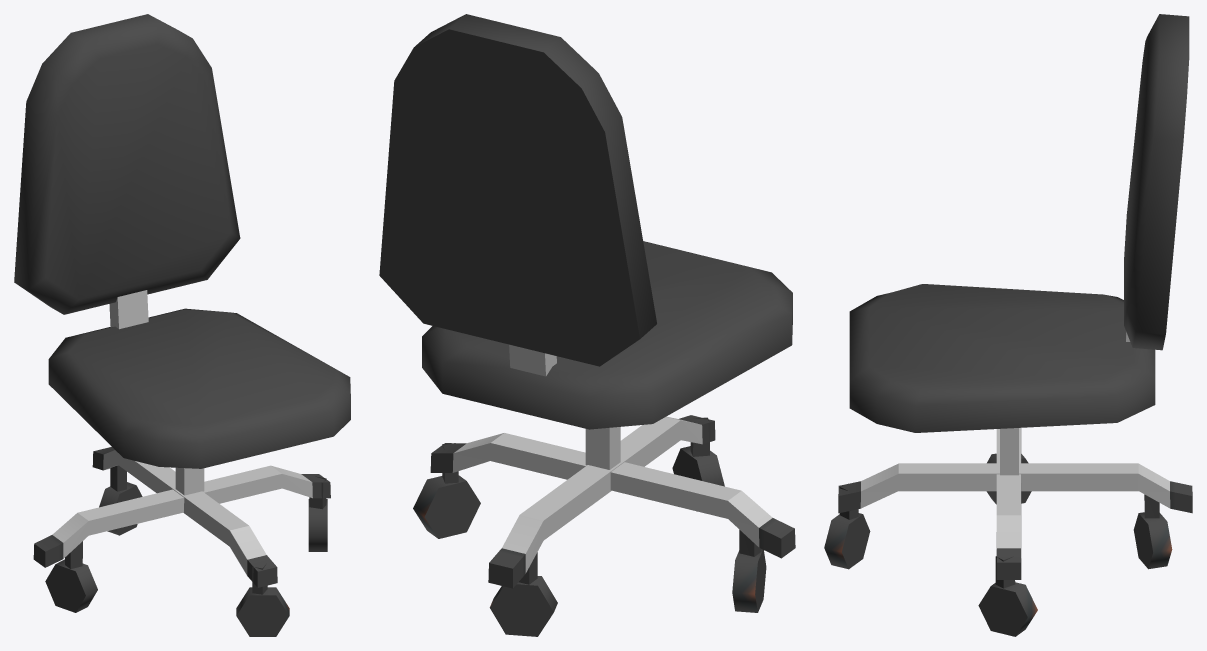
The model's file is SM_Chairs_04.FBX.
3 views of the same model, side by side, from view 1: azimuth 30°, elevation 25°; view 2: azimuth 150°, elevation 25°; view 3: azimuth 270°, elevation 25° (orthographic). The views are drawn at different scales.
Visible parts, largest first — view 1: SM_Chairs_04; view 2: SM_Chairs_04; view 3: SM_Chairs_04.
Part boxes in pixels (box(x1,y1,x2,y2)): SM_Chairs_04: box(14, 14, 350, 636); SM_Chairs_04: box(379, 14, 795, 636); SM_Chairs_04: box(824, 14, 1192, 636).
Size of the model in its own units: 87.09 by 87.09 by 138.
